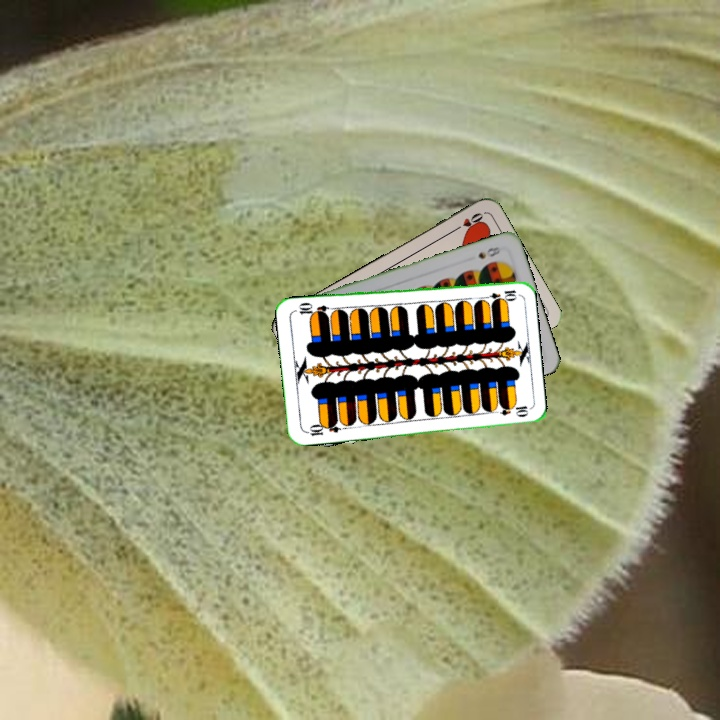E10: (302, 418, 342, 439), (479, 286, 519, 303)
HO: (449, 209, 486, 234)
S8: (474, 243, 504, 261)
